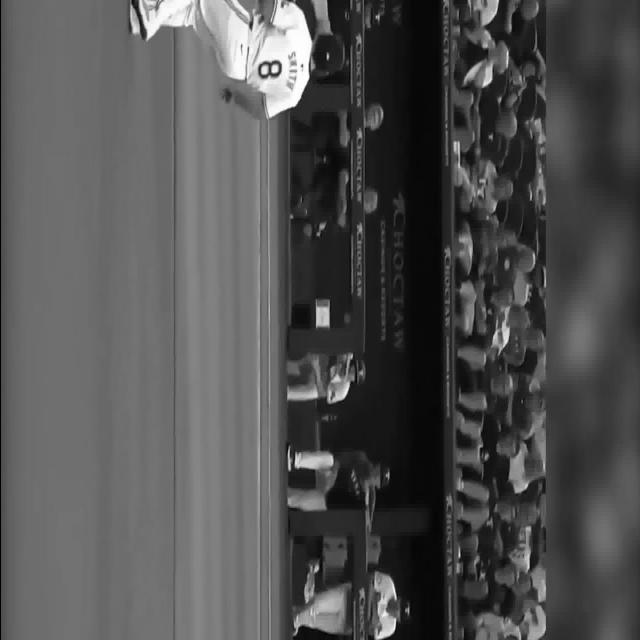shoe: (128, 0, 160, 42), (128, 0, 140, 35), (286, 443, 294, 471)
